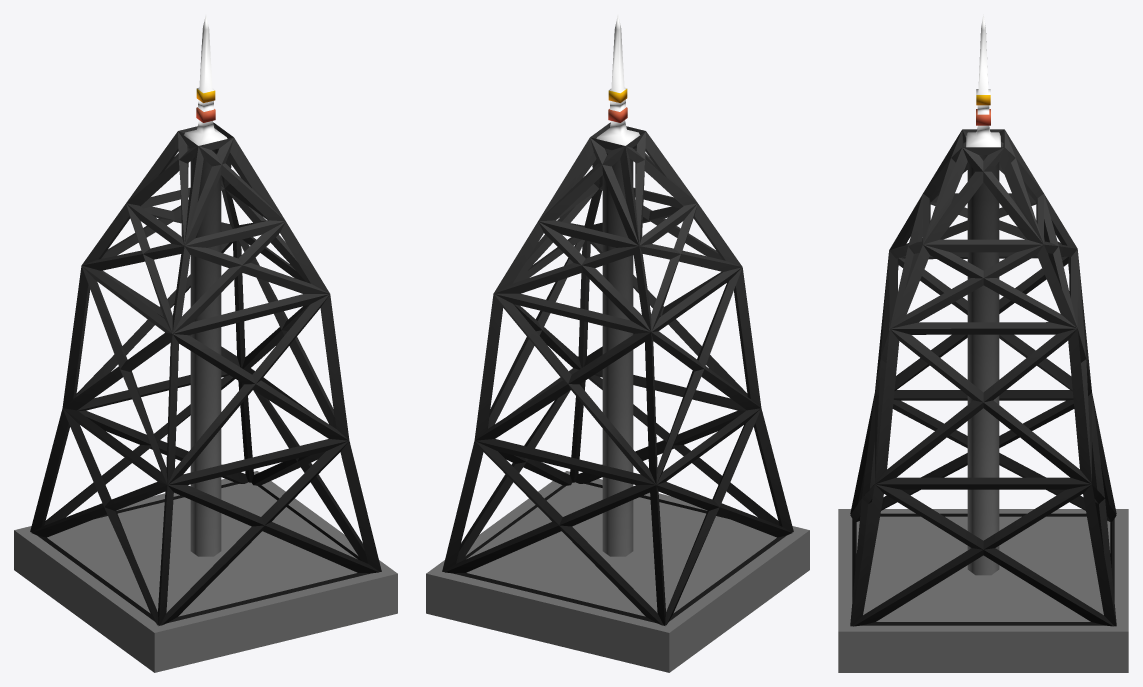
The model's file is Structure_ComTower.fbx.
The picture shows the model from 3 angles, left to right: view 1: azimuth 30°, elevation 25°; view 2: azimuth 150°, elevation 25°; view 3: azimuth 270°, elevation 25°; orthographic projection. The views are drawn at different scales.
Parts seen in each view (by area): view 1: Building_ComTower; view 2: Building_ComTower; view 3: Building_ComTower.
Part boxes in pixels (box(x1,y1,x2,y2)): Building_ComTower: box(14, 15, 397, 672); Building_ComTower: box(426, 15, 809, 672); Building_ComTower: box(838, 14, 1128, 672).
Size of the model in its own units: 180 by 409 by 180.
